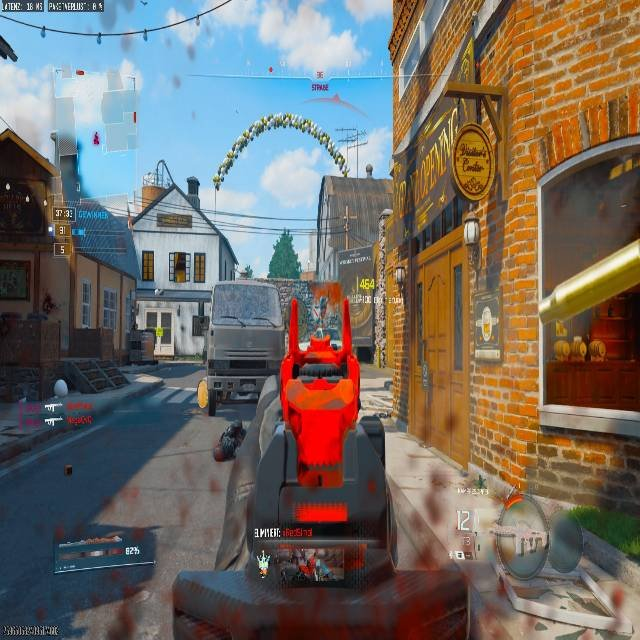player: (239, 263, 253, 279), (364, 162, 373, 177)
